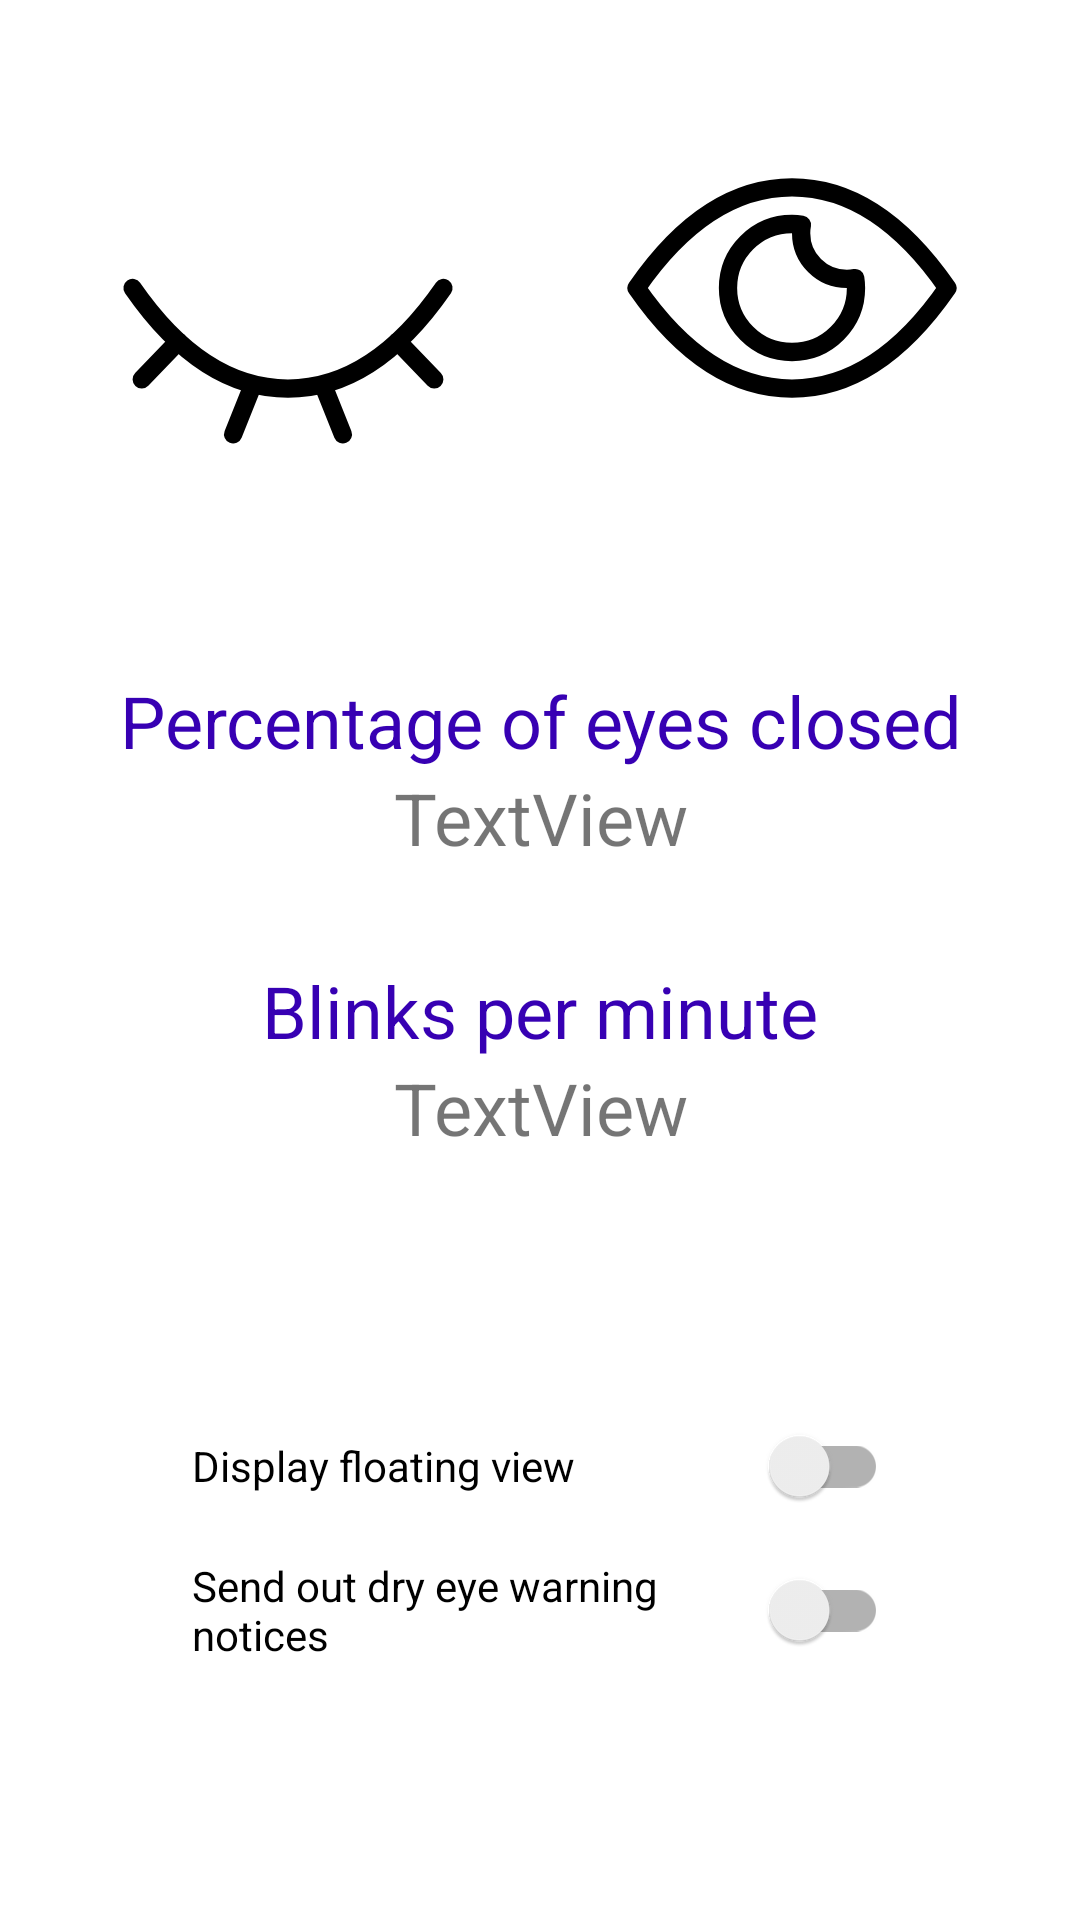

Icon bounding boxes for this 1080 x 1920 phone screenshot, format bbox=(x1, y1, x2, y2):
eye: bbox=(627, 178, 957, 398)
eye closed: bbox=(123, 278, 453, 444)
